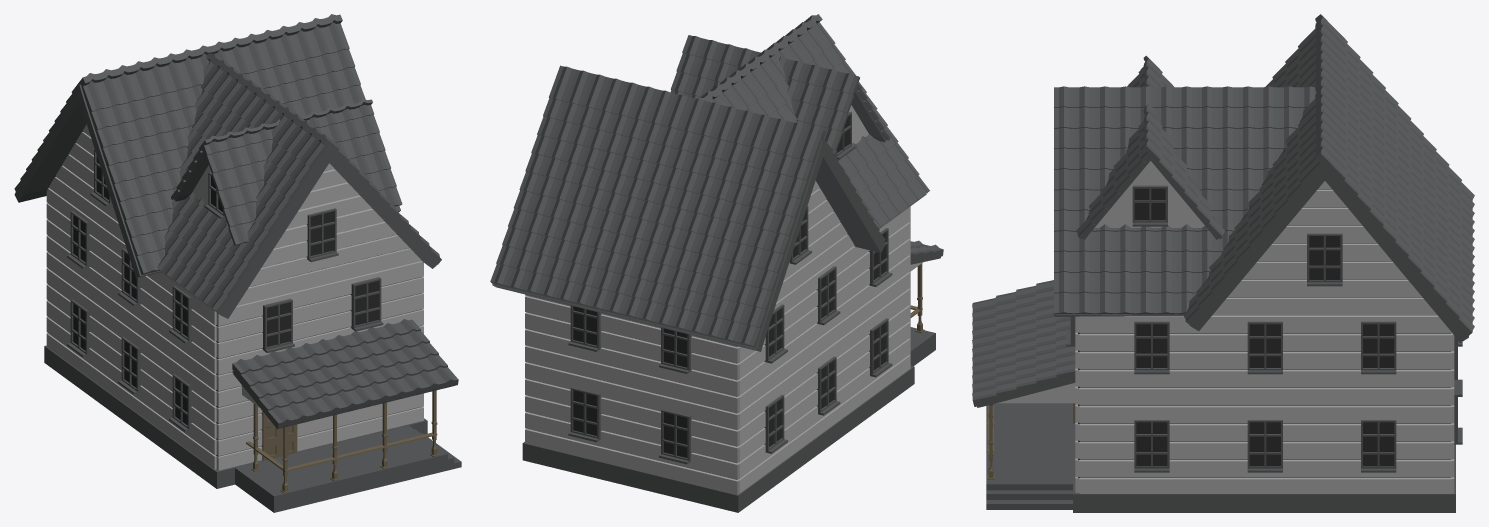
The model's file is quaternius-buildings-pack-2-house-1.glb.
3 renders of one model, left to right at view 1: azimuth 30°, elevation 25°; view 2: azimuth 150°, elevation 25°; view 3: azimuth 270°, elevation 25°, orthographic. The views are drawn at different scales.
Visible parts, largest first — view 1: House1; view 2: House1; view 3: House1.
Boxes of the visible parts, bbox=[...] form: House1: bbox=[14, 14, 461, 512]; House1: bbox=[490, 14, 943, 512]; House1: bbox=[972, 14, 1474, 512].
Size of the model in its own units: 2.56 by 3.18 by 3.87.
